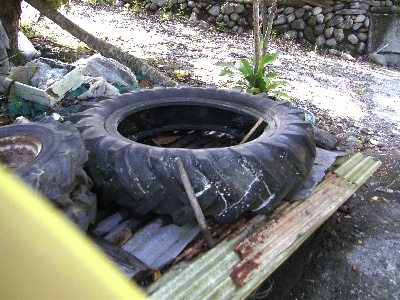styrofoam: (6, 55, 83, 107)
tire: (74, 84, 319, 221), (1, 115, 90, 210)
